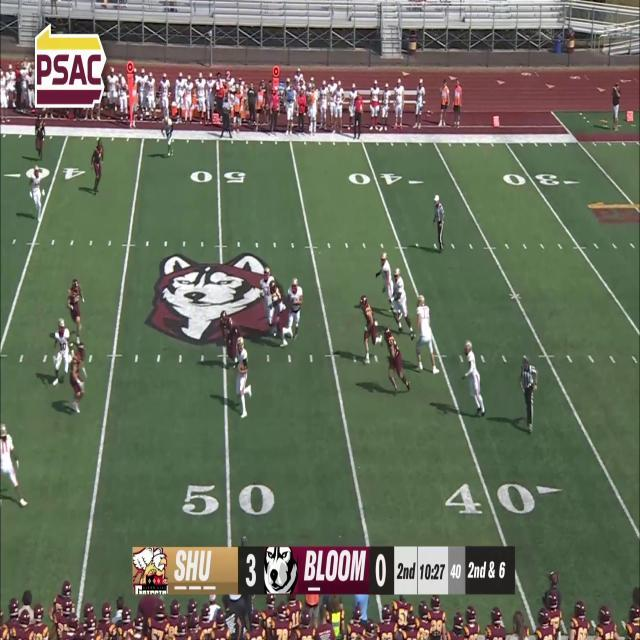football: (239, 362, 244, 372)
